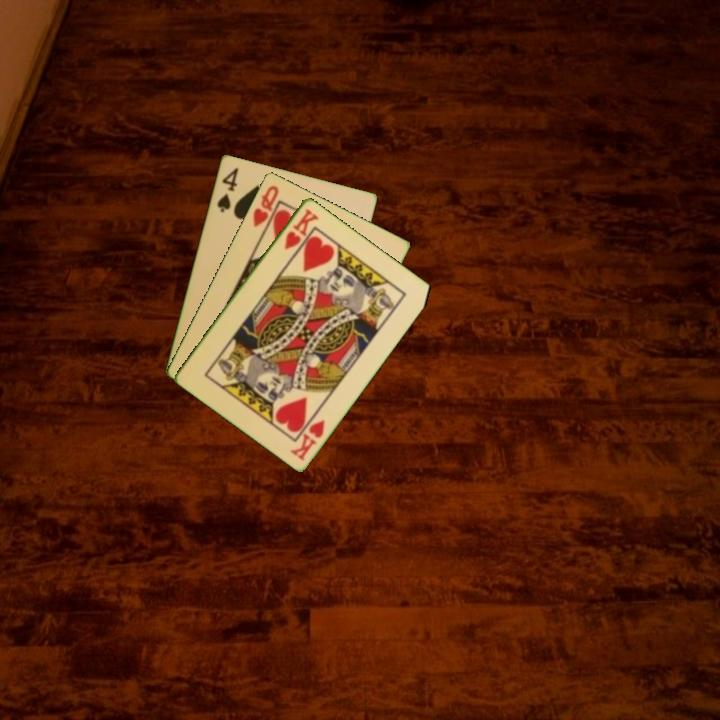4s: (213, 163, 241, 215)
Kh: (287, 416, 328, 463), (281, 205, 321, 252)
Qh: (249, 181, 282, 236)
